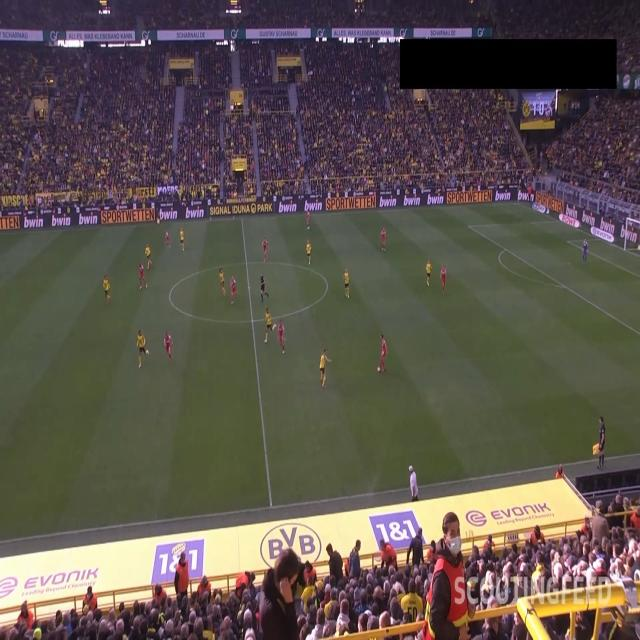ball: (376, 364, 382, 374)
